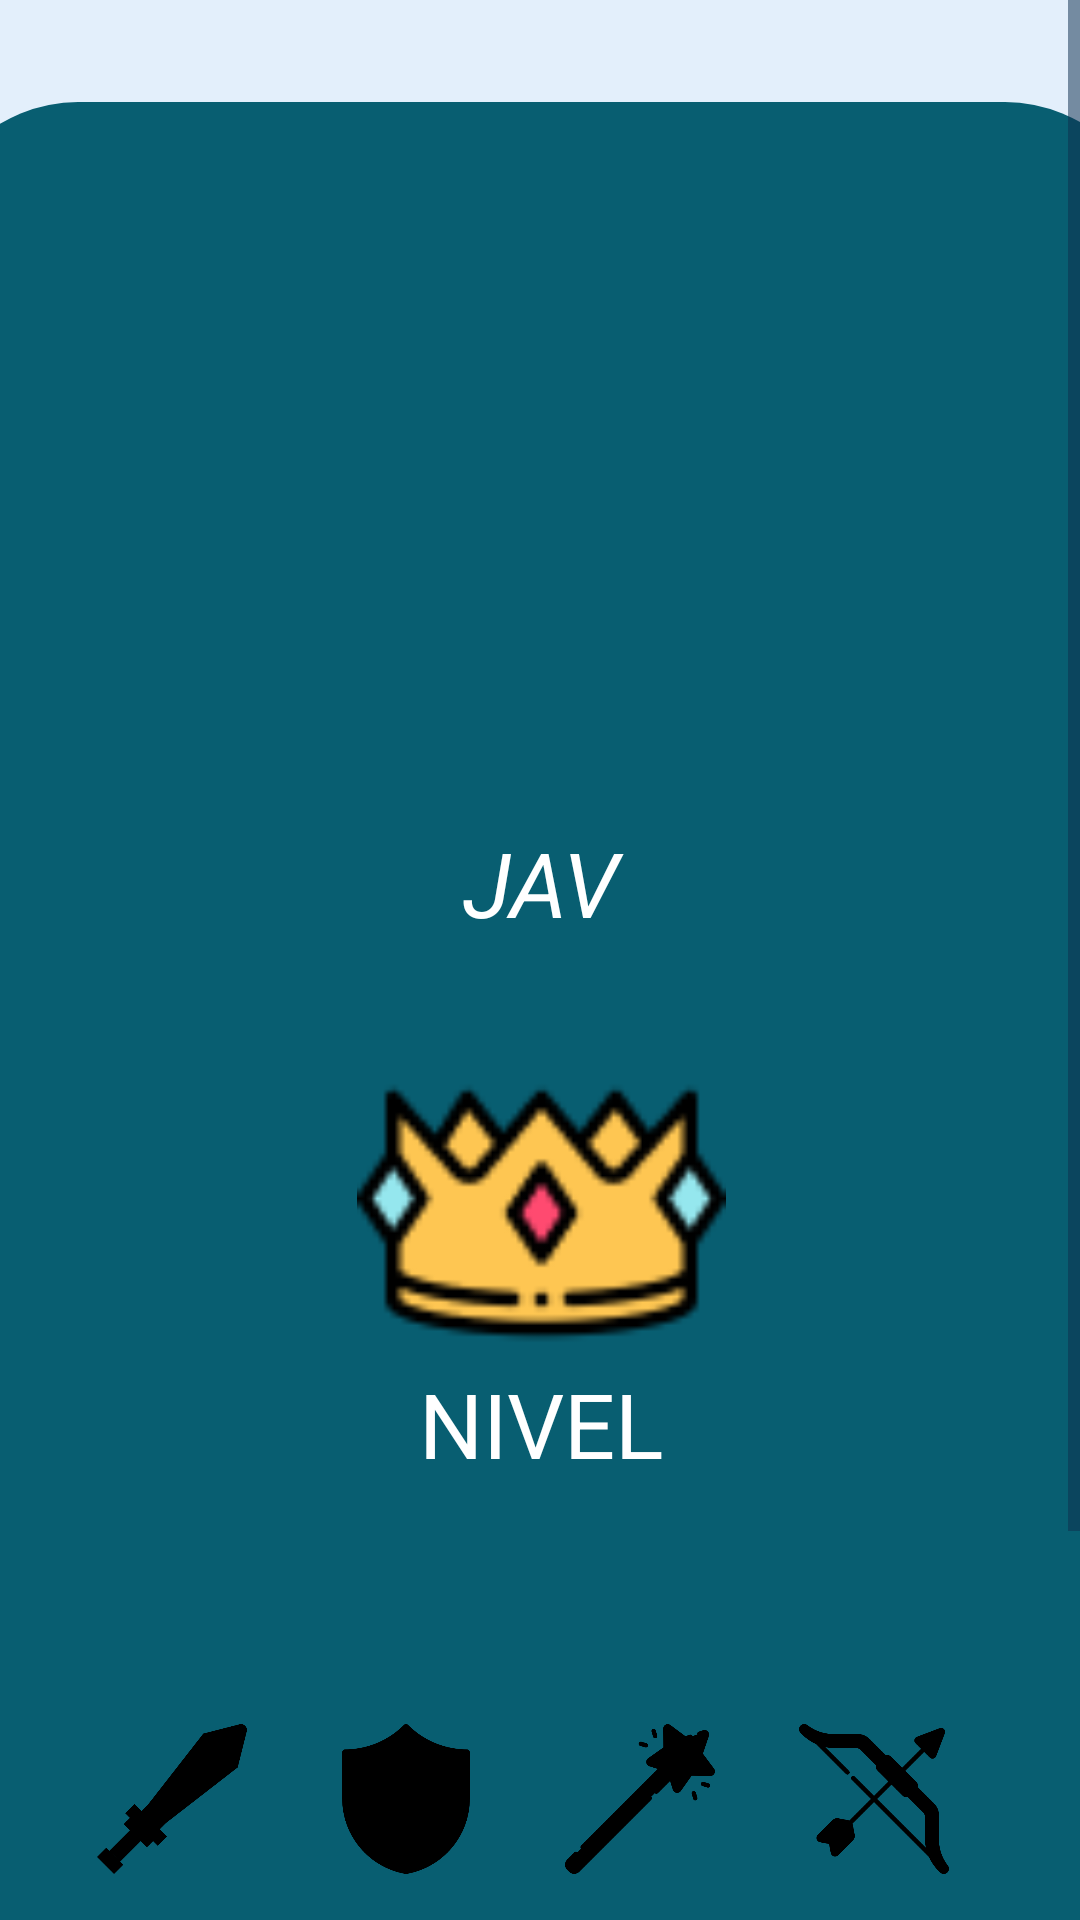

Point at icon controls on the screen. Image size 1080 × 1920, points as (x=x, y=y).
no arch: (x=874, y=1799)
no shield: (x=406, y=1799)
no sword: (x=172, y=1799)
no wand: (x=640, y=1799)
